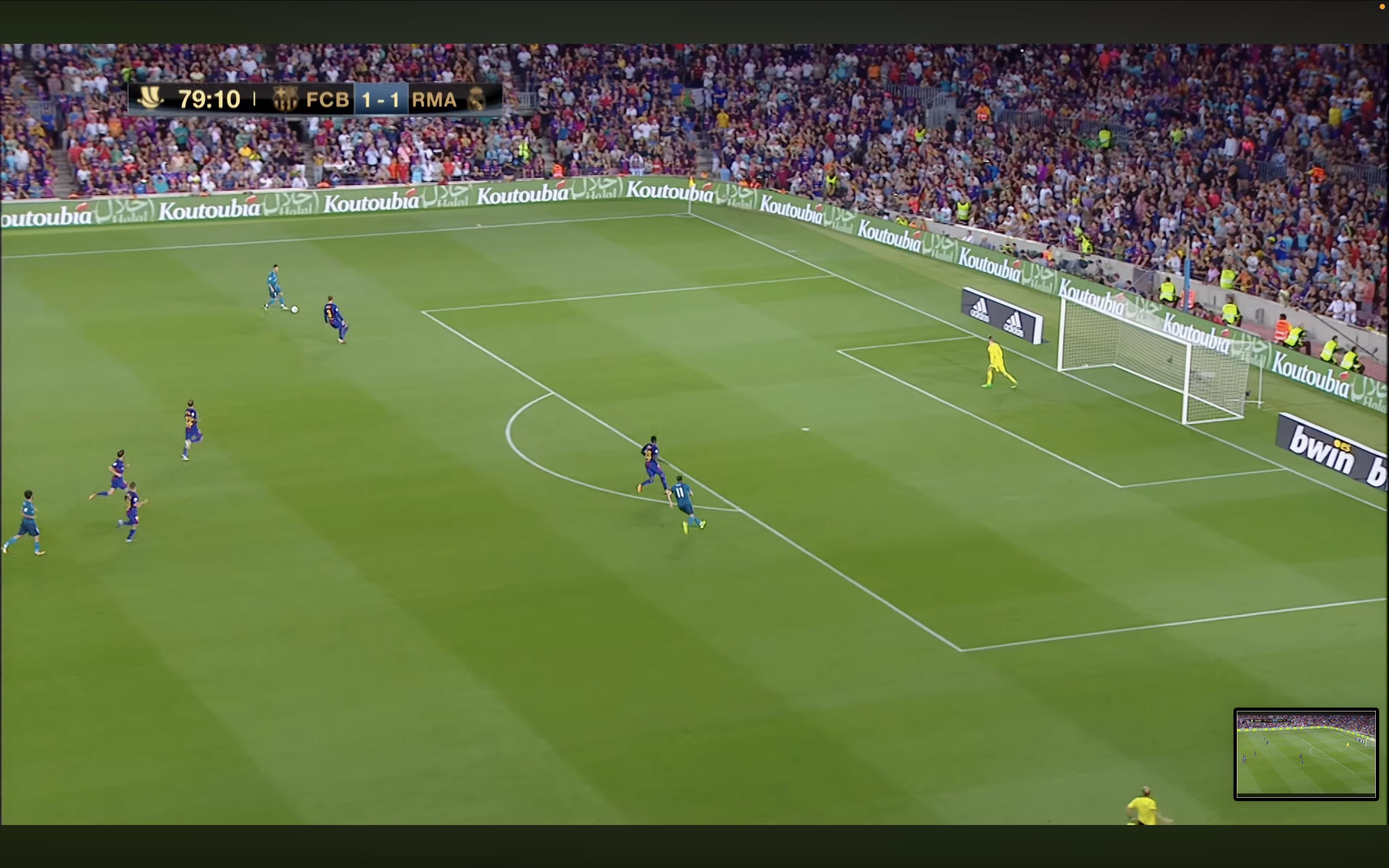ball: (290, 305, 298, 313)
goalkeeper: (983, 336, 1017, 388)
player: (0, 490, 45, 555), (637, 436, 670, 500), (671, 475, 706, 534), (88, 451, 128, 500), (118, 482, 147, 542), (181, 400, 202, 460), (324, 296, 349, 344), (265, 264, 288, 310)
referee: (1126, 787, 1173, 825)
